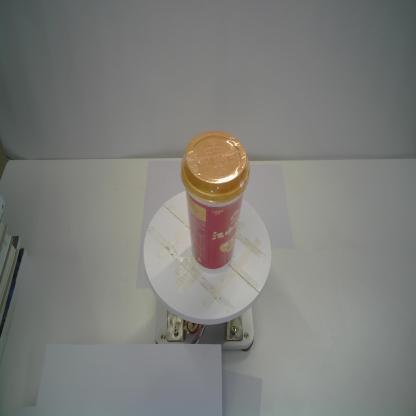Instant Drink: (180, 130, 251, 274)
